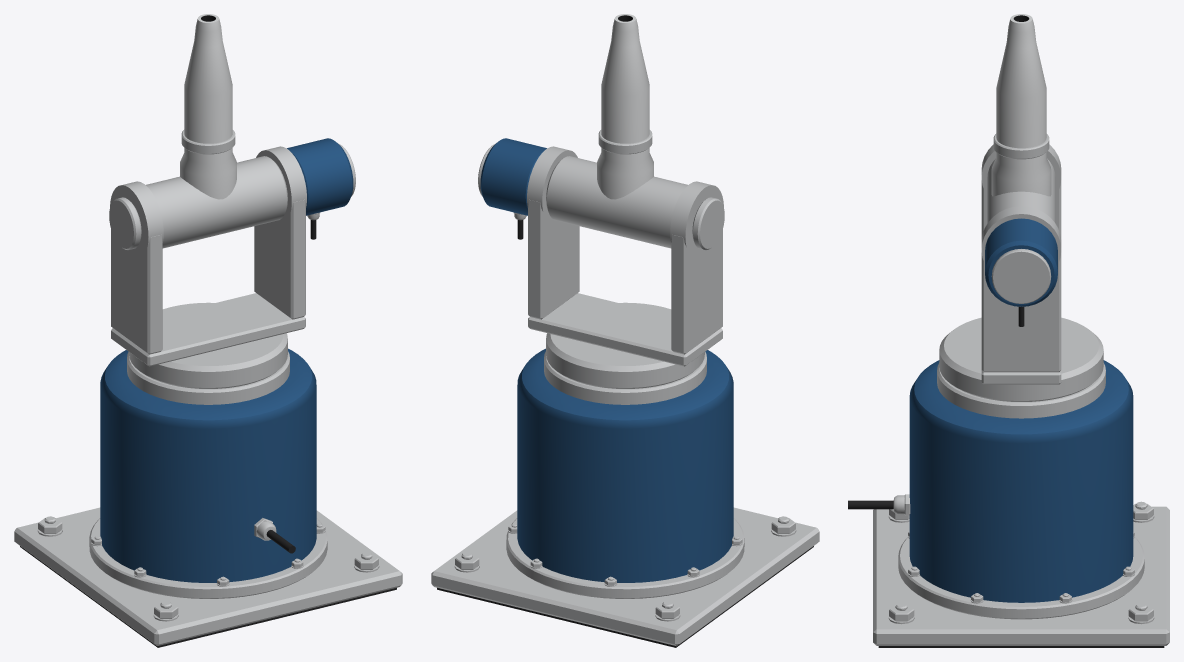
File: motion_2d_nozzle.glb
The picture shows the model from 3 angles, left to right: view 1: azimuth 30°, elevation 25°; view 2: azimuth 150°, elevation 25°; view 3: azimuth 270°, elevation 25°; orthographic projection. The views are drawn at different scales.
Parts seen in each view (by area): view 1: Base, Pan_Z, Tilt_X; view 2: Base, Pan_Z, Tilt_X; view 3: Base, Pan_Z, Tilt_X.
Boxes of the visible parts, bbox=[...] form: Base: bbox=[14, 348, 402, 647]; Pan_Z: bbox=[109, 138, 355, 388]; Tilt_X: bbox=[146, 14, 287, 248]; Base: bbox=[431, 348, 819, 647]; Pan_Z: bbox=[478, 138, 724, 388]; Tilt_X: bbox=[546, 14, 687, 248]; Base: bbox=[848, 360, 1169, 647]; Pan_Z: bbox=[939, 144, 1103, 401]; Tilt_X: bbox=[987, 14, 1055, 223].
Size of the model in its own units: 0.27 by 0.55 by 0.2819.
